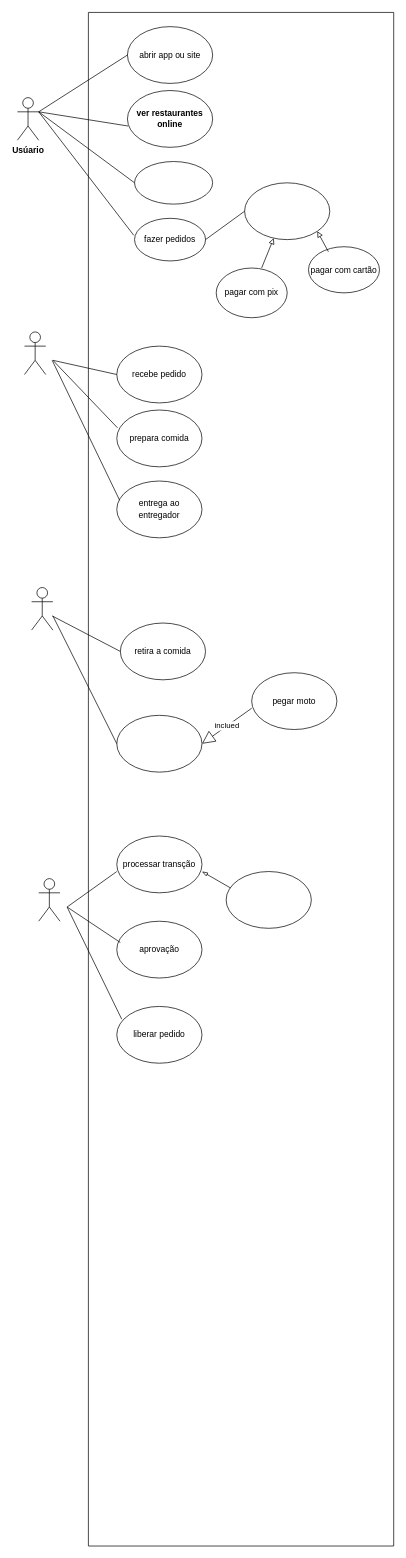
The diagram is 406 pixels wide and 1558 high, and some of its shapes have lost their labels. The box of each missing label's shape, as (x1, y1, x2, y2) in pixels:
cartão, pix, bolrto, cupom: (225, 871, 311, 928)
entrega um cliente: (116, 715, 202, 772)
entregador (ator): (31, 587, 53, 630)
pagar o pedido: (244, 182, 330, 240)
restaurante (ator): (24, 331, 46, 375)
sistema (ator): (38, 878, 60, 921)
ver cardapio: (134, 161, 213, 204)
